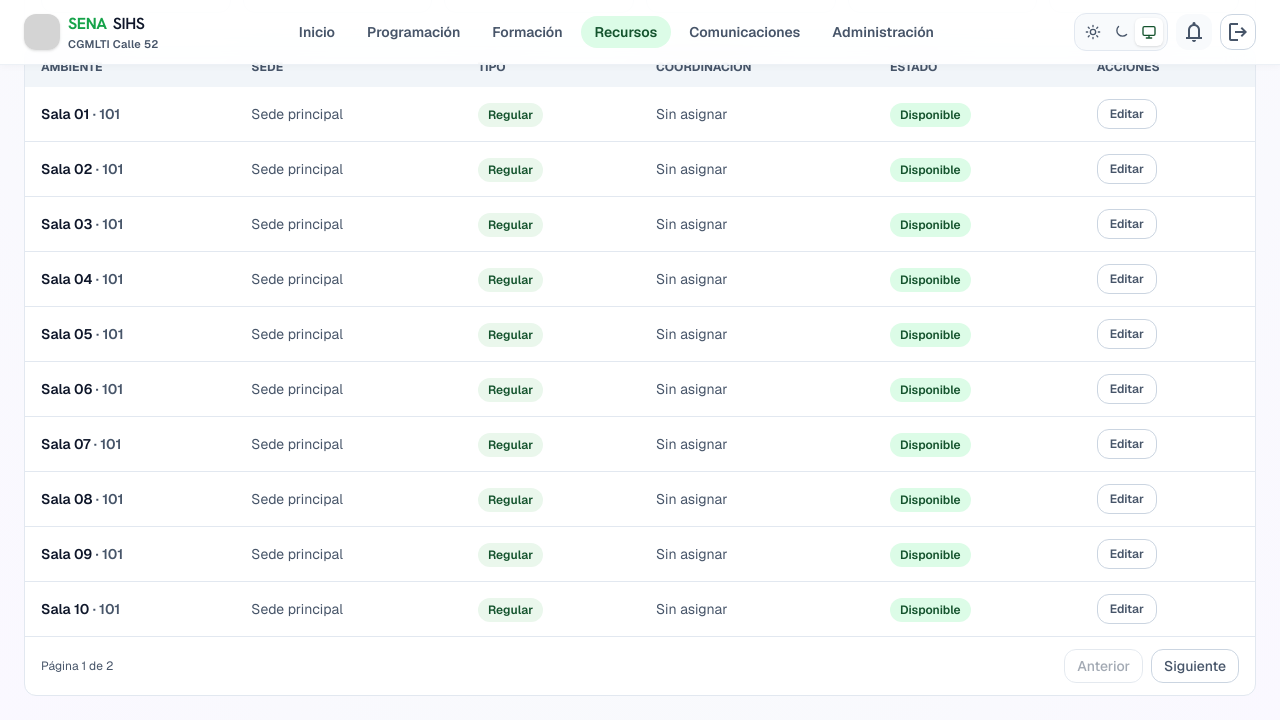
Ambientes › con más de 10 ambientes, pagina y "Siguiente" avanza a la página 2
The image size is (1280, 720).
(page scrolled)
expect the text "Sala 01" is shown: met, box [41,105,89,123]
expect the text "Página 1 de 2" is shown: met, box [41,658,113,674]
Click the button "Siguiente".
click(1195, 666)  # box [1151,649,1239,683]
(page scrolled)
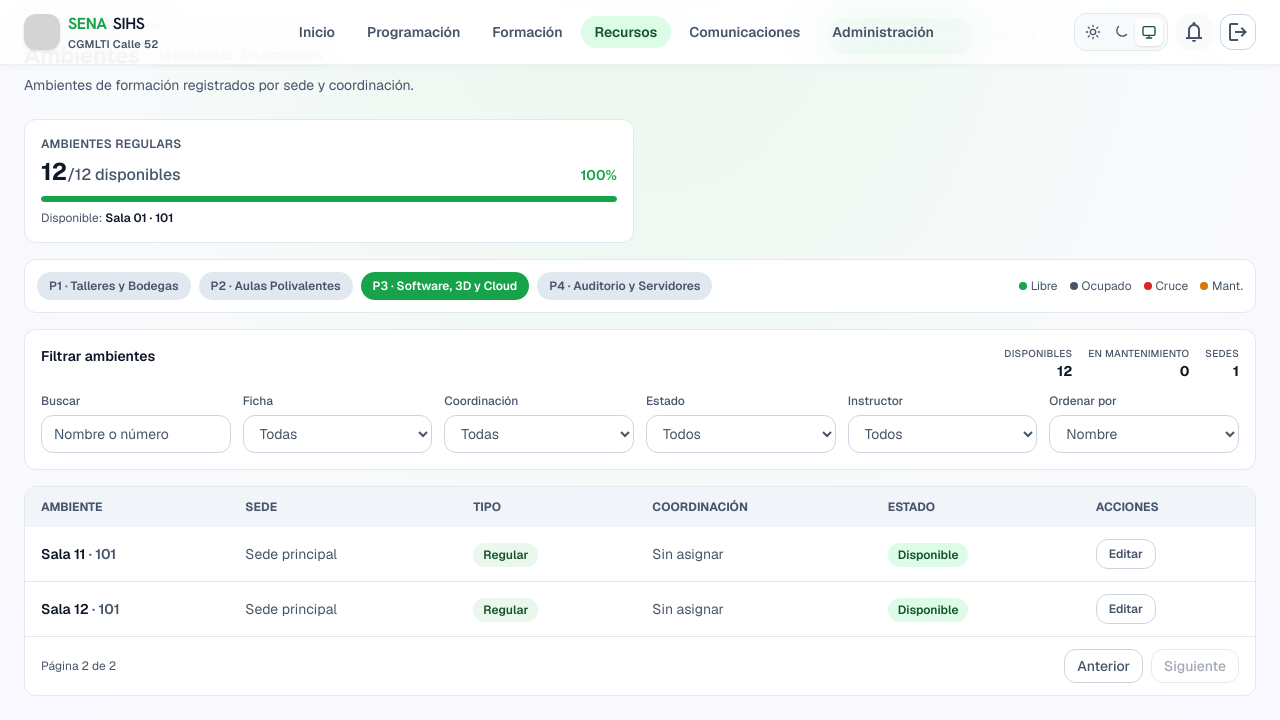
expect the text "Página 2 de 2" is shown: met, box [41,658,116,674]
expect the text "Sala 11" is shown: met, box [41,545,85,563]
expect the button "Siguiente" is disabled: met, box [1151,649,1239,683]
